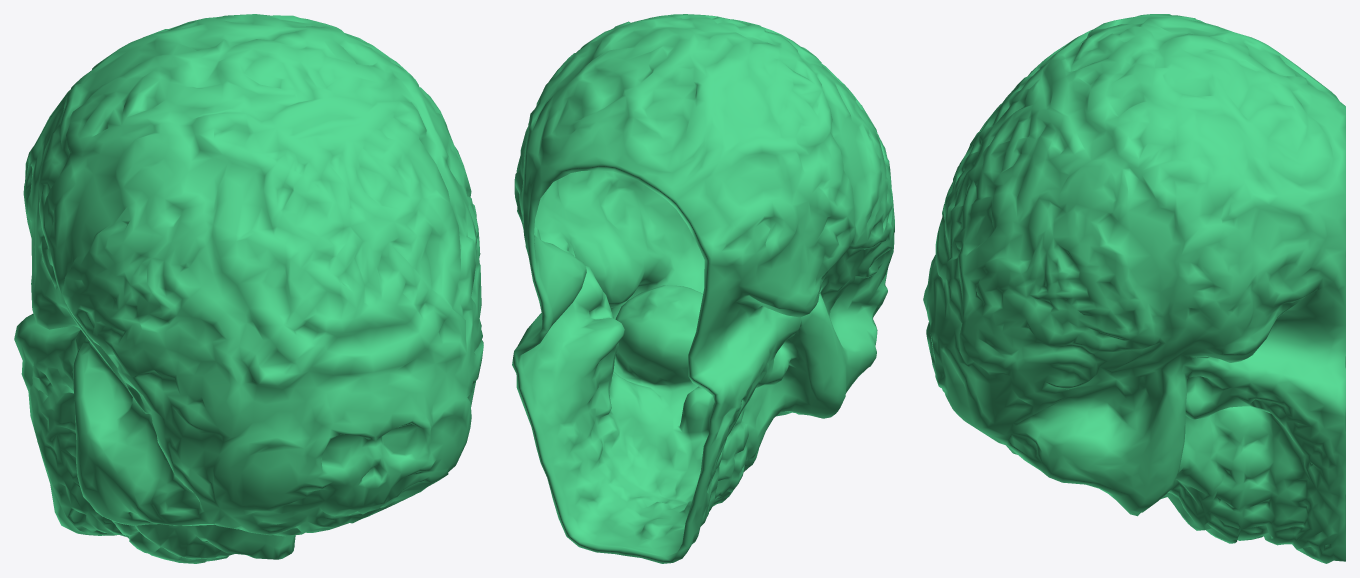
The model's file is 321050-skull_QEM_90%.obj.
3 renders of one model, left to right at view 1: azimuth 30°, elevation 25°; view 2: azimuth 150°, elevation 25°; view 3: azimuth 270°, elevation 25°, orthographic. The views are drawn at different scales.
Bounding box in the file's own units: 0.7098 × 1 × 0.7566.
